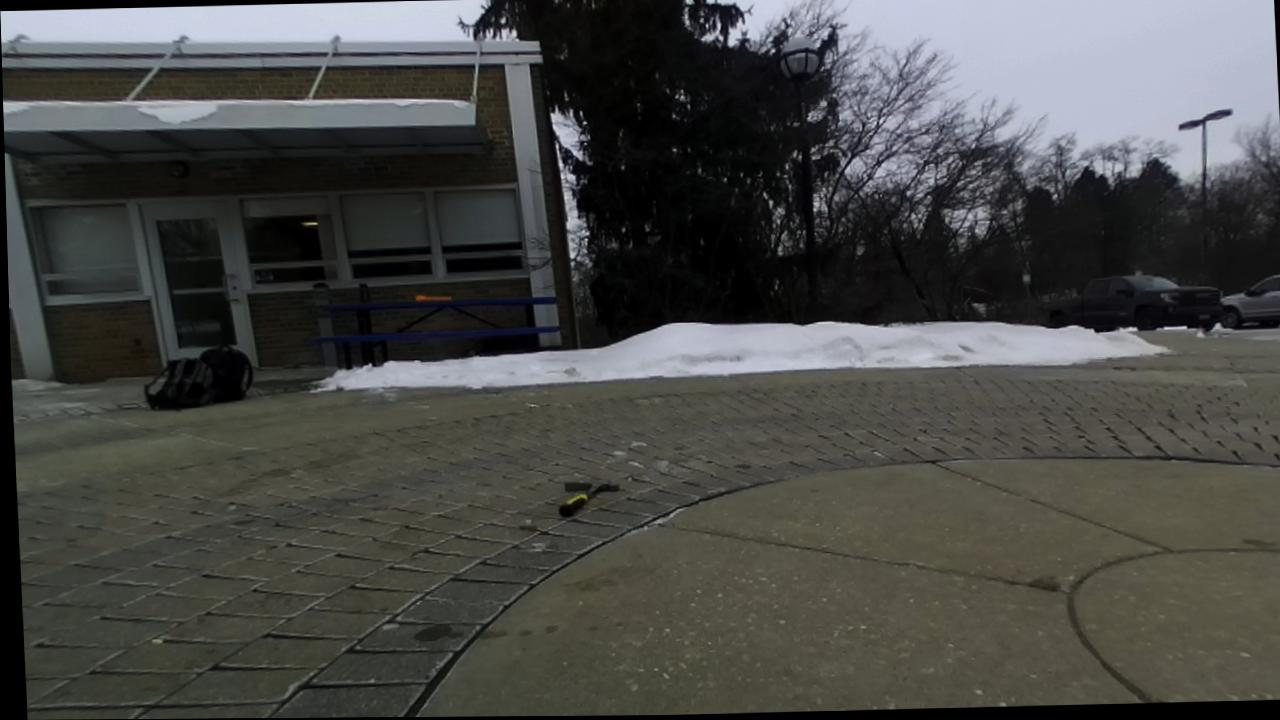pick: (559, 483, 619, 517)
